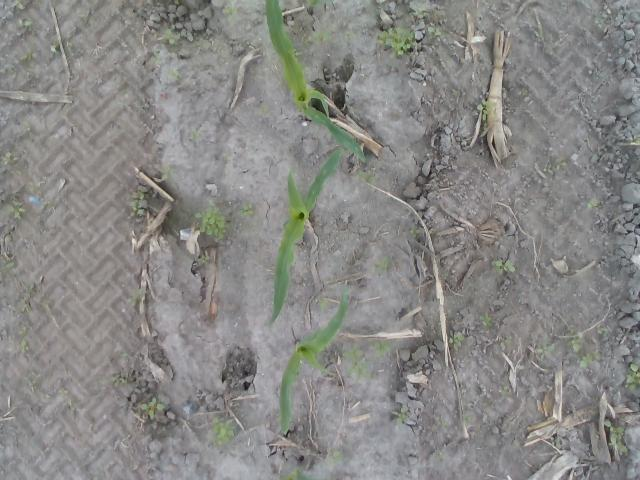Maize: (263, 0, 368, 161), (272, 149, 343, 322), (278, 291, 349, 436), (279, 463, 319, 480)
Weeds: (192, 199, 230, 240), (342, 342, 378, 385), (376, 25, 416, 59), (603, 419, 628, 457), (304, 26, 338, 50), (209, 416, 236, 446), (477, 98, 495, 130), (51, 31, 74, 56), (140, 396, 166, 418), (127, 188, 147, 216), (191, 34, 225, 50), (624, 362, 640, 392), (372, 340, 392, 363), (565, 324, 581, 352), (490, 258, 518, 274), (356, 167, 378, 187), (7, 198, 27, 220), (448, 330, 464, 354), (536, 341, 560, 357), (160, 26, 178, 47), (392, 404, 409, 426), (326, 447, 346, 465), (580, 352, 602, 368), (426, 25, 449, 40), (126, 288, 144, 306), (238, 203, 256, 220), (374, 256, 392, 272), (158, 164, 176, 180), (26, 176, 44, 192), (479, 312, 496, 328), (223, 3, 241, 17), (0, 152, 18, 166), (16, 17, 32, 32), (578, 198, 602, 208), (20, 48, 38, 61), (16, 340, 32, 354), (498, 335, 512, 351), (554, 155, 568, 170), (148, 48, 161, 64), (168, 66, 182, 80), (414, 0, 426, 16), (256, 104, 272, 116), (15, 300, 31, 312), (1, 63, 17, 75), (1, 260, 17, 272), (66, 399, 80, 412), (594, 15, 604, 33), (111, 374, 128, 384), (409, 224, 421, 238), (542, 162, 554, 176), (21, 282, 34, 294), (498, 385, 512, 396), (533, 25, 544, 39), (318, 298, 329, 312), (292, 46, 302, 60), (304, 63, 312, 80), (16, 326, 28, 337), (21, 120, 32, 132), (191, 130, 201, 142), (222, 152, 234, 162), (516, 87, 528, 97), (436, 419, 448, 428), (200, 255, 210, 265), (30, 382, 40, 392), (597, 324, 607, 334), (46, 199, 56, 208), (344, 32, 354, 40), (64, 87, 74, 95), (58, 386, 65, 397), (271, 64, 280, 72), (16, 0, 24, 9), (384, 14, 396, 20), (119, 352, 129, 359), (630, 139, 640, 146), (332, 348, 338, 354), (464, 416, 469, 423)
